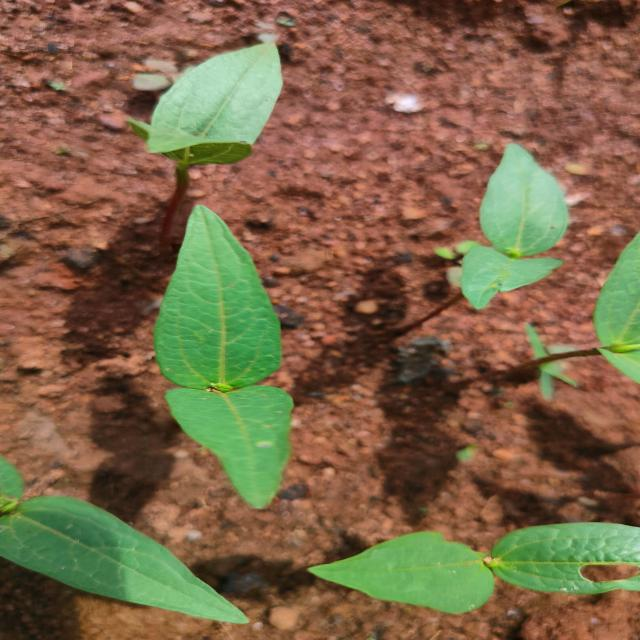Black gram_healthy: (0, 504, 270, 624), (162, 205, 279, 389), (163, 378, 294, 515), (296, 530, 504, 612), (148, 37, 279, 144), (480, 140, 581, 256), (452, 231, 556, 316)
